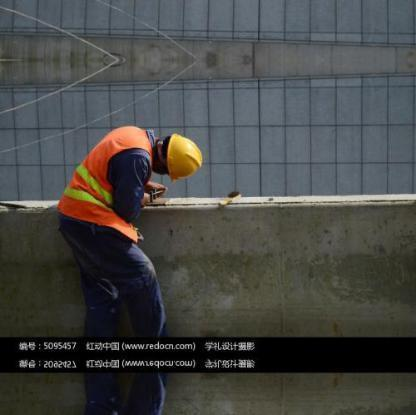helmet: (164, 124, 209, 186)
